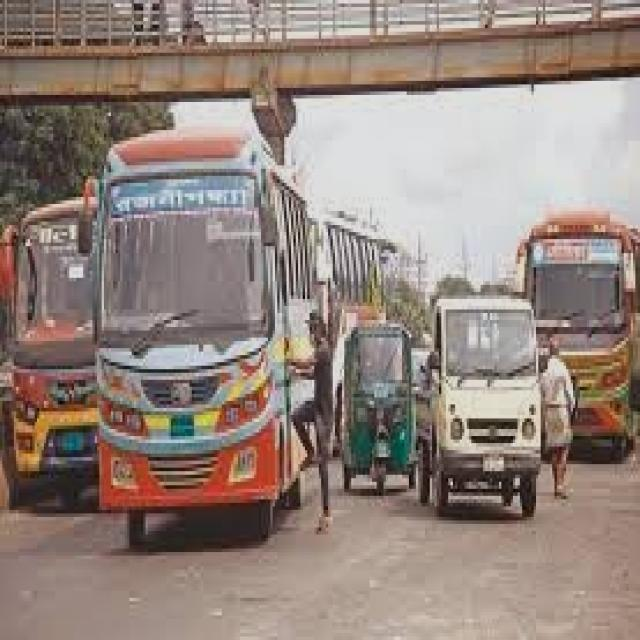bus: (93, 123, 325, 510), (525, 197, 640, 455), (309, 209, 396, 430)
